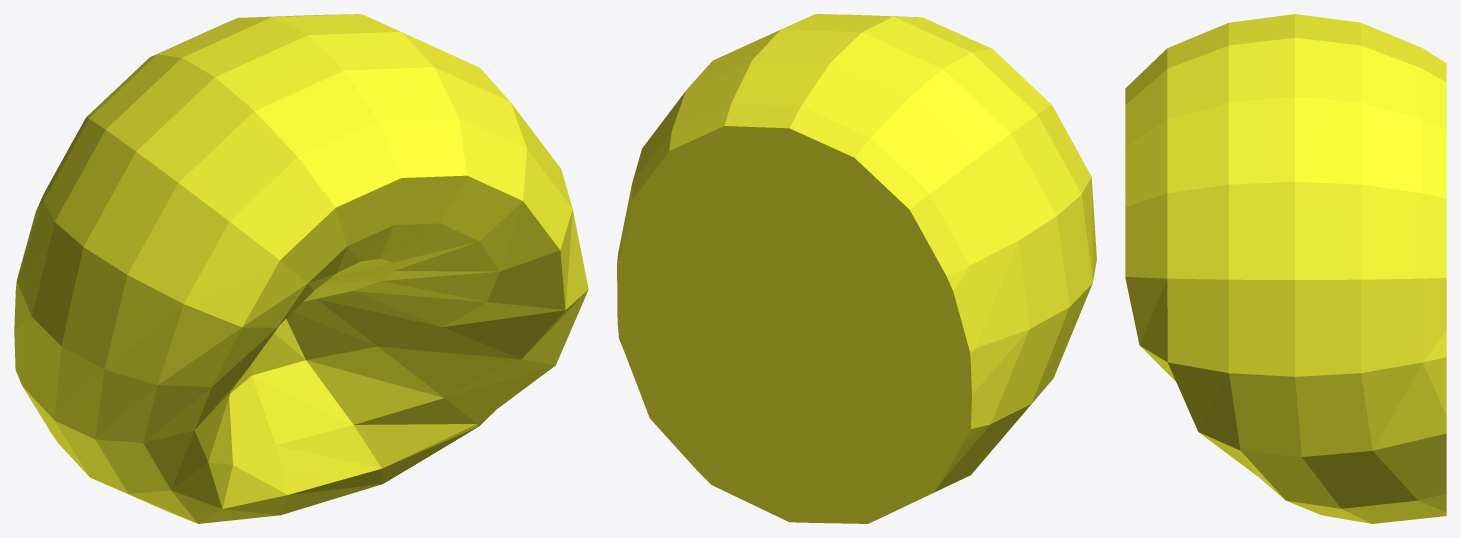
The picture shows the model from 3 angles, left to right: view 1: azimuth 30°, elevation 25°; view 2: azimuth 150°, elevation 25°; view 3: azimuth 270°, elevation 25°; orthographic projection. The views are drawn at different scales.
Parts seen in each view (by area): view 1: yellow beanbag chair; view 2: yellow beanbag chair; view 3: yellow beanbag chair.
Boxes of the visible parts, <box> form: yellow beanbag chair: <box>14,14,588,523</box>; yellow beanbag chair: <box>617,14,1096,523</box>; yellow beanbag chair: <box>1125,14,1446,523</box>.
Size of the model in its own units: 71.15 by 71.15 by 44.83.
